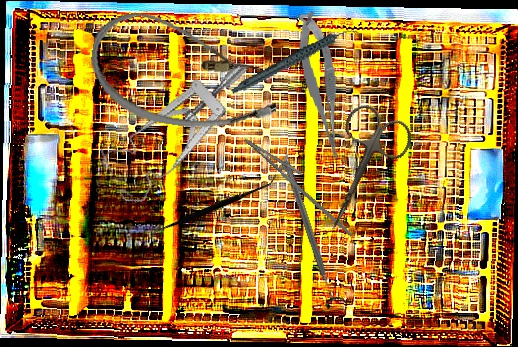Cannula: (82, 6, 289, 141)
Fixation Ring: (275, 156, 348, 311)
Handpiece: (223, 26, 366, 95)
Iris Scissors: (300, 99, 419, 245)
Micro Scissor: (294, 10, 346, 163)
Needle Holder: (233, 128, 370, 238)
Spatula Surgical: (146, 134, 278, 280)
Speculum: (84, 58, 278, 212)
